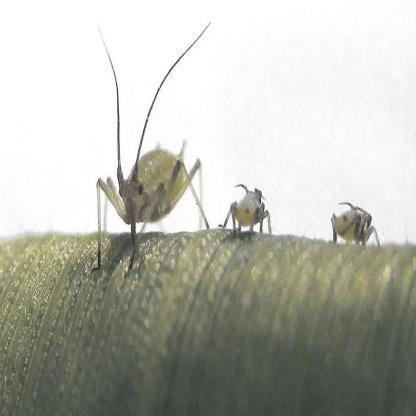aphid: (83, 37, 212, 258), (215, 166, 275, 246), (331, 186, 387, 258)
